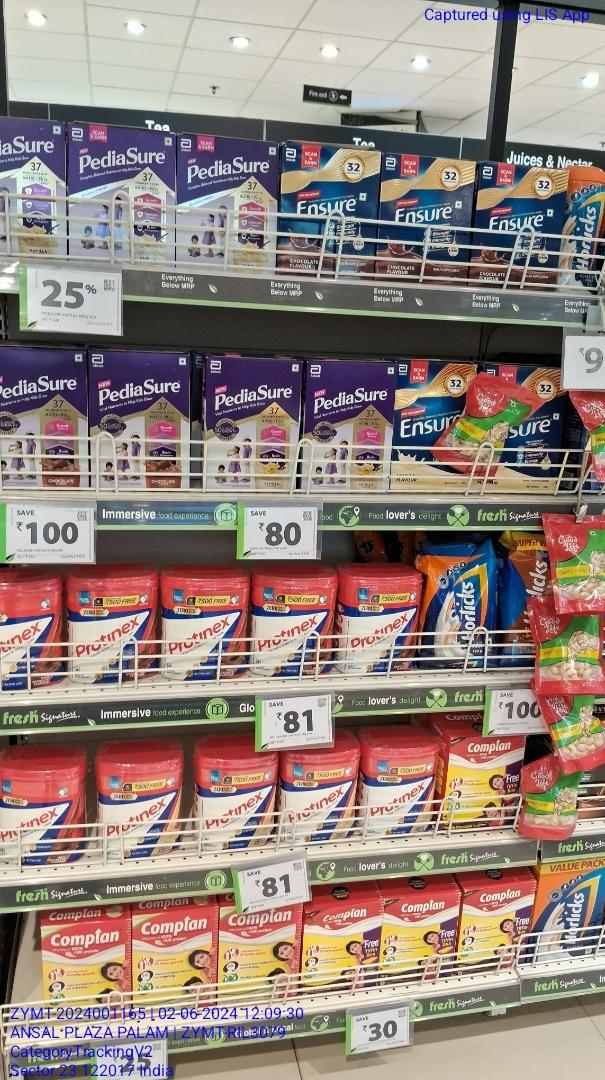HORLICK_CLASSIC_MALT_500_G_JAR: (565, 159, 605, 302)
PEDIASURE_CHOCOLATE_500_G_PACK: (91, 349, 192, 489), (0, 344, 86, 487)
PEDIASURE_VANILLA_500_G_PACK: (66, 121, 172, 269), (176, 135, 275, 275), (200, 354, 299, 493), (305, 361, 392, 495), (1, 116, 62, 257)
PROTINEX_CHOCOLATE_400_G_JAR: (161, 572, 250, 678), (2, 753, 86, 863), (74, 573, 157, 677), (340, 568, 420, 674), (254, 572, 336, 675), (0, 578, 67, 685)
PROTINEX_VANILLA_400_G_JAR: (96, 751, 187, 854), (194, 754, 275, 849), (280, 749, 360, 840), (364, 739, 438, 833)
